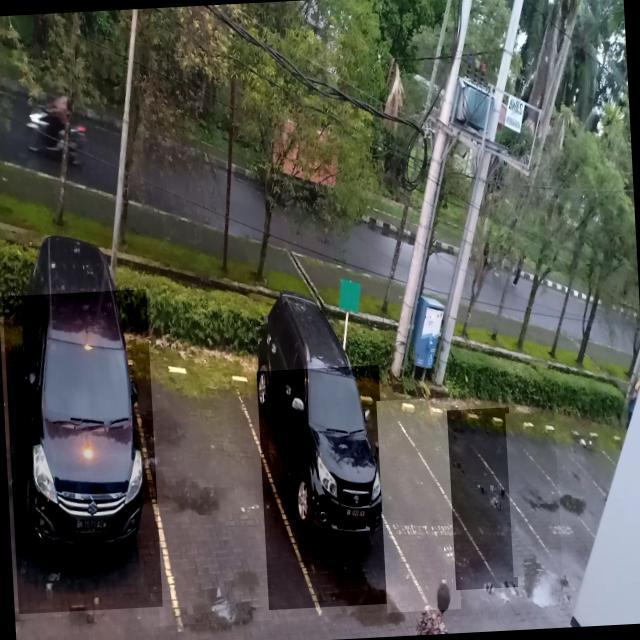empty: (146, 356, 272, 626), (377, 398, 461, 612), (447, 407, 518, 590), (506, 411, 562, 577)
occupied: (2, 289, 162, 614), (257, 365, 391, 610)
